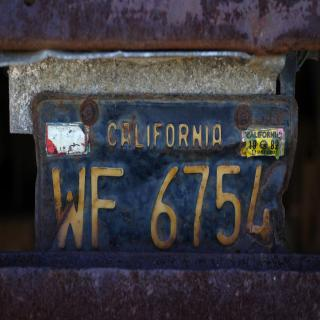license: (42, 102, 290, 254)
